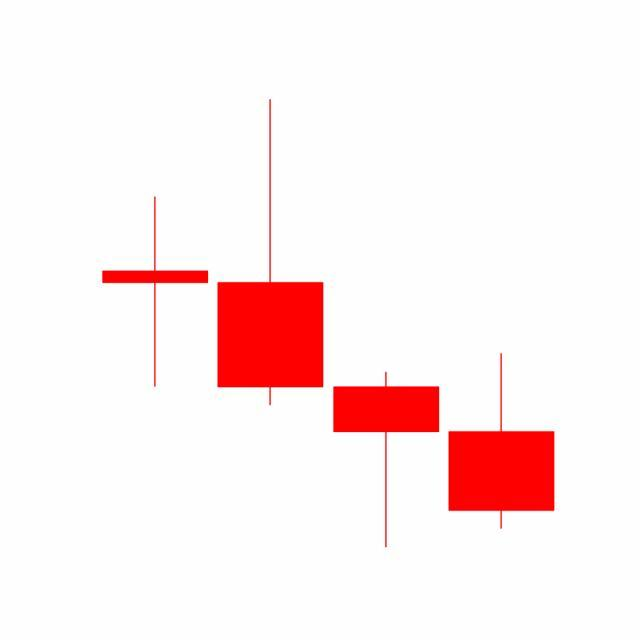Hammer: (329, 370, 445, 551)
